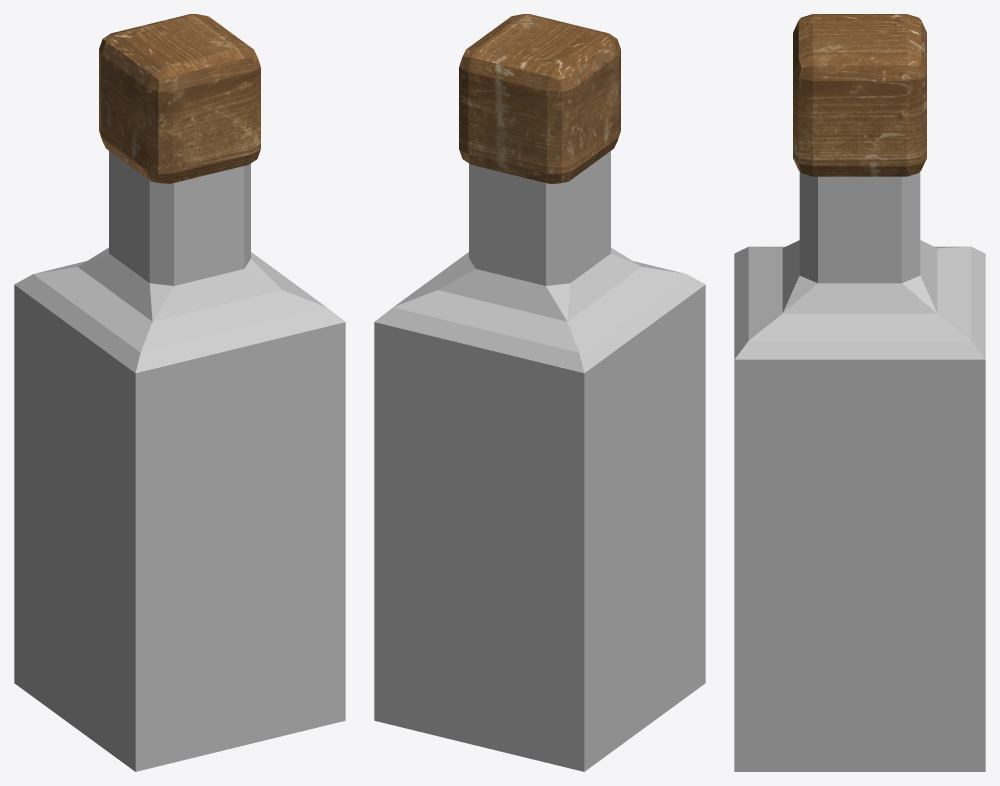
Rendered from health potion.fbx.
3 renders of one model, left to right at view 1: azimuth 30°, elevation 25°; view 2: azimuth 150°, elevation 25°; view 3: azimuth 270°, elevation 25°, orthographic. The views are drawn at different scales.
Parts seen in each view (by area): view 1: Cube, Cube.001; view 2: Cube, Cube.001; view 3: Cube, Cube.001.
Part boxes in pixels (x1=…): Cube: x1=14, y1=151, x2=345, y2=771; Cube.001: x1=99, y1=14, x2=260, y2=183; Cube: x1=374, y1=151, x2=705, y2=771; Cube.001: x1=459, y1=14, x2=620, y2=183; Cube: x1=734, y1=172, x2=985, y2=771; Cube.001: x1=793, y1=14, x2=926, y2=176.
Size of the model in its own units: 158 by 475 by 158.
